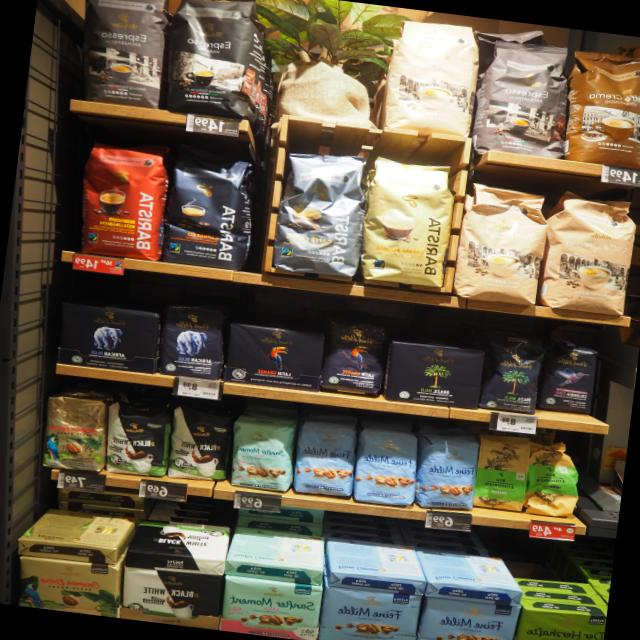AB Bohne: (156, 303, 227, 381)
AB Gemahlen: (58, 301, 164, 374)
Athiopien Bohne: (520, 436, 586, 520)
Athiopien Gemahlen: (466, 428, 534, 514)
BM Bohne: (479, 325, 547, 415)
BM Gemahlen: (382, 338, 486, 411)
BW Bohne: (166, 402, 236, 484), (104, 400, 173, 479)
BW Gemahlen: (119, 566, 221, 629), (124, 520, 232, 563)
Barista CB: (356, 154, 461, 289)
Barista CC: (269, 147, 372, 279)
Barista Espresso: (158, 151, 264, 274)
Barista Kolumbien: (69, 133, 176, 264)
C Fino Bohne: (537, 340, 600, 416)
CC Mild: (534, 187, 640, 317), (376, 15, 487, 139), (449, 181, 554, 308)
CC Vollmundig 36 Pads: (559, 48, 640, 170)
Colombia BB Bohne: (36, 388, 112, 476)
Colombia BB Gemahlen: (18, 554, 122, 618), (13, 510, 138, 553)
Empty Shelf: (511, 576, 603, 615)
Espresso Aromatisch: (468, 38, 573, 161), (68, 0, 180, 111)
Espresso Kraftig: (158, 0, 273, 123)
FM Bohne: (410, 426, 482, 514), (351, 424, 420, 508), (291, 417, 358, 499)
FM Gemahlen: (317, 585, 423, 640), (322, 536, 427, 587), (417, 596, 523, 640)
Herzhatfe Mundig: (511, 595, 607, 640)
LG Bohne: (319, 317, 392, 400)
LG Gemahlen: (223, 320, 326, 392)
SM Bohne: (224, 411, 302, 495)
SM Gemahlen: (219, 573, 325, 640), (224, 526, 326, 574)
